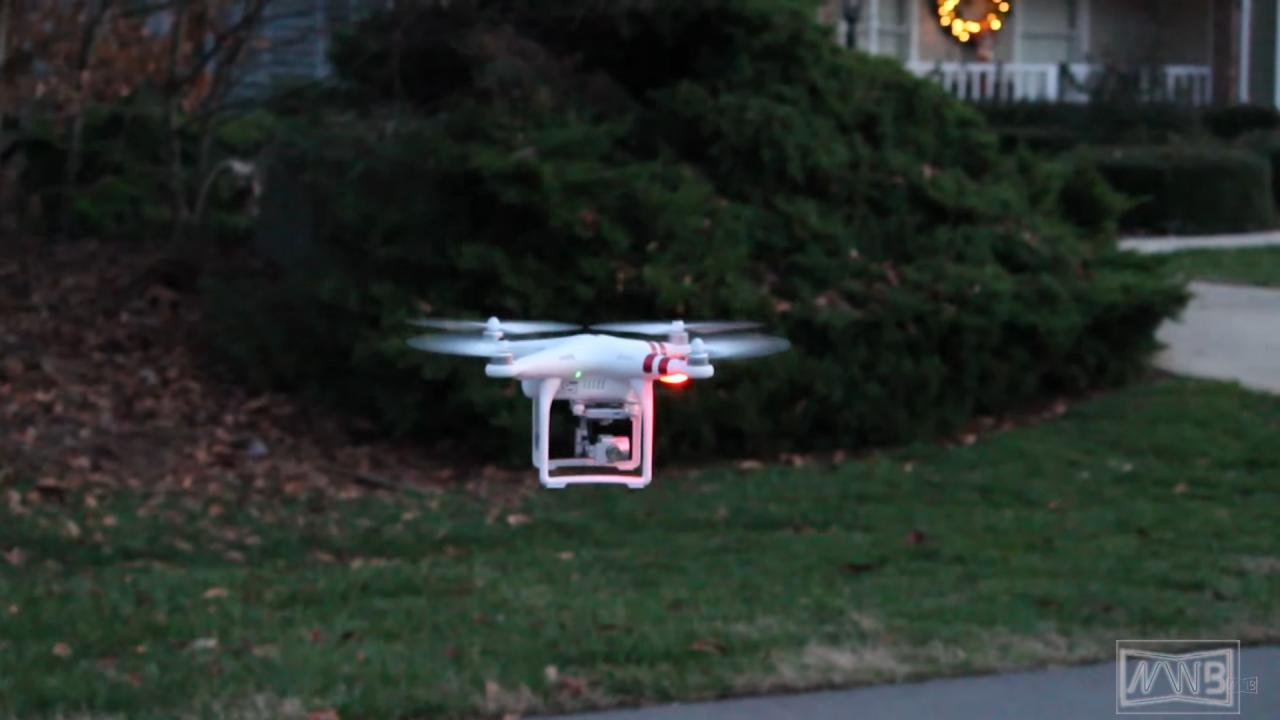Drone: (389, 303, 804, 497)
